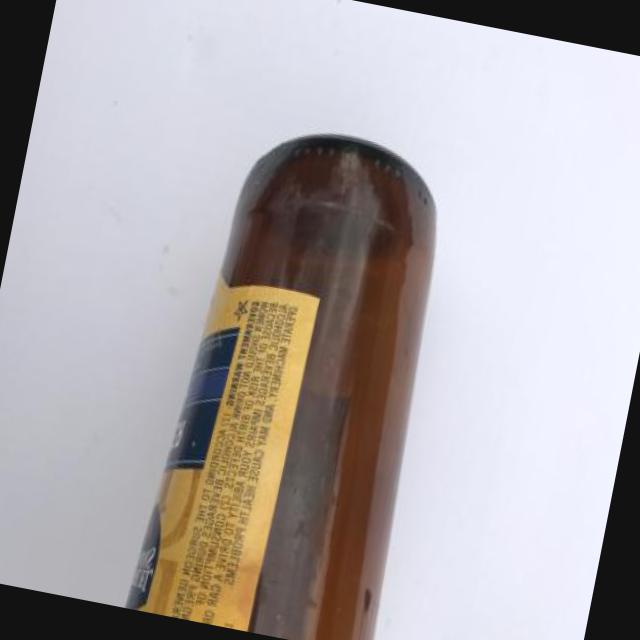chai_thuy_tinh: (126, 135, 434, 640)
